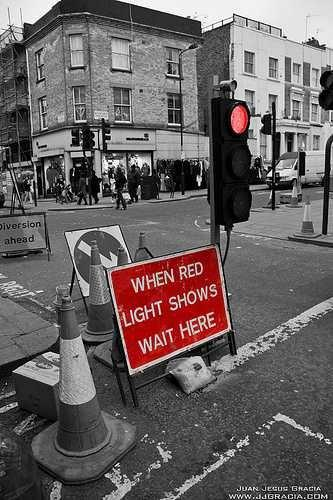red: (217, 98, 255, 225), (220, 99, 254, 142)
